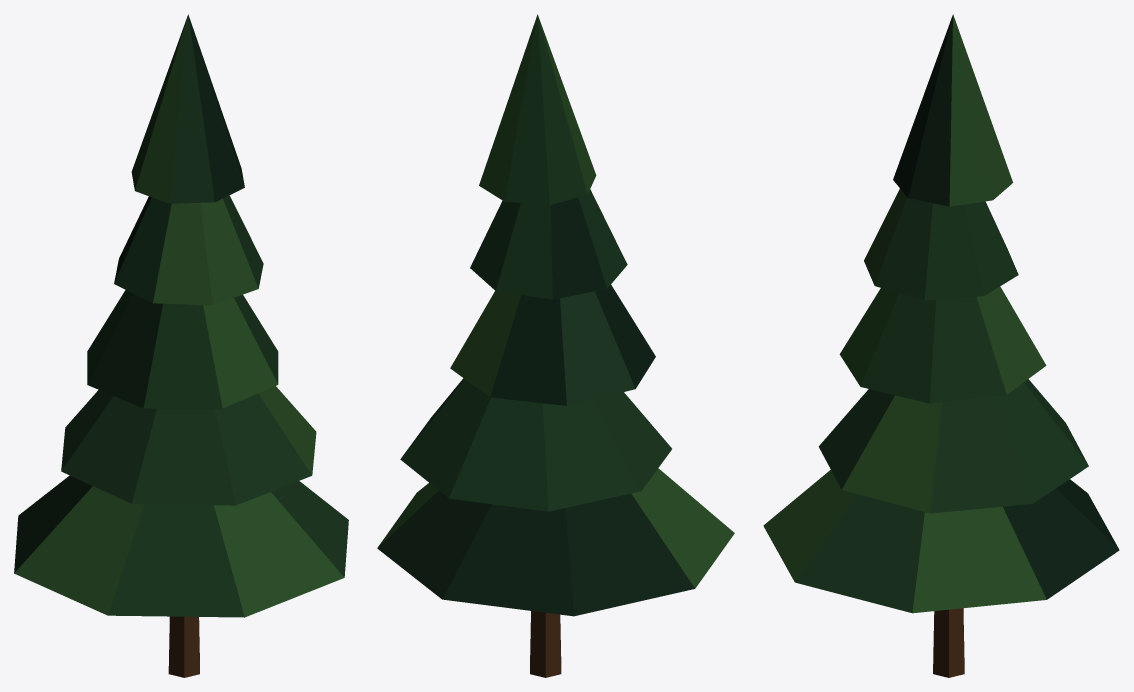
Rendered from pine_0.gltf.
The picture shows the model from 3 angles, left to right: view 1: azimuth 30°, elevation 25°; view 2: azimuth 150°, elevation 25°; view 3: azimuth 270°, elevation 25°; orthographic projection.
Bounding box in the file's own units: 6.26 × 12.77 × 6.26.
